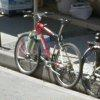bicycles: (20, 35, 83, 90)
